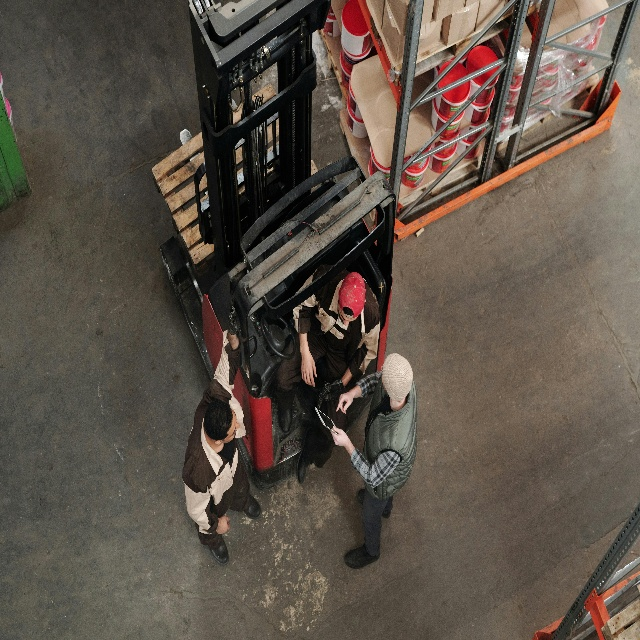Guantes: (317, 381, 335, 410), (227, 299, 239, 336)
Sin_guantes: (301, 352, 317, 388), (335, 389, 354, 414), (330, 425, 347, 447), (216, 515, 230, 534)
